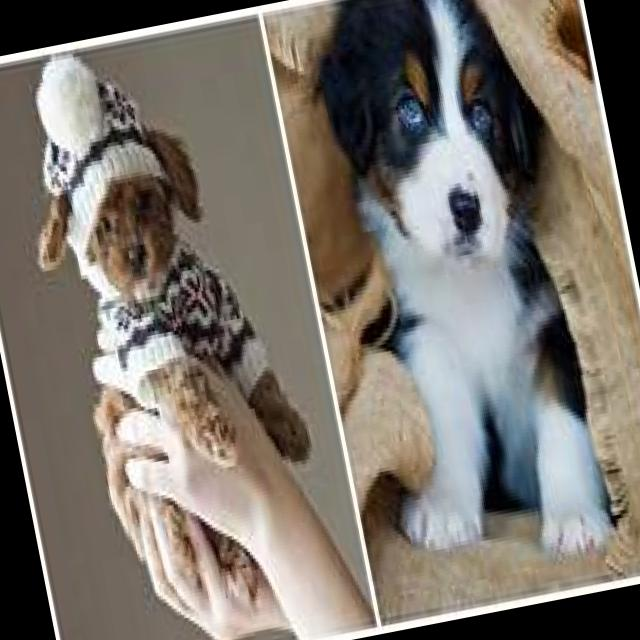animal: (298, 0, 632, 588), (1, 19, 330, 610)
